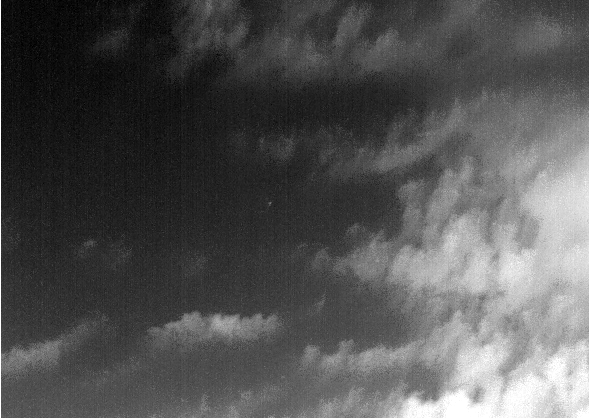dim target: (268, 201, 272, 206)
